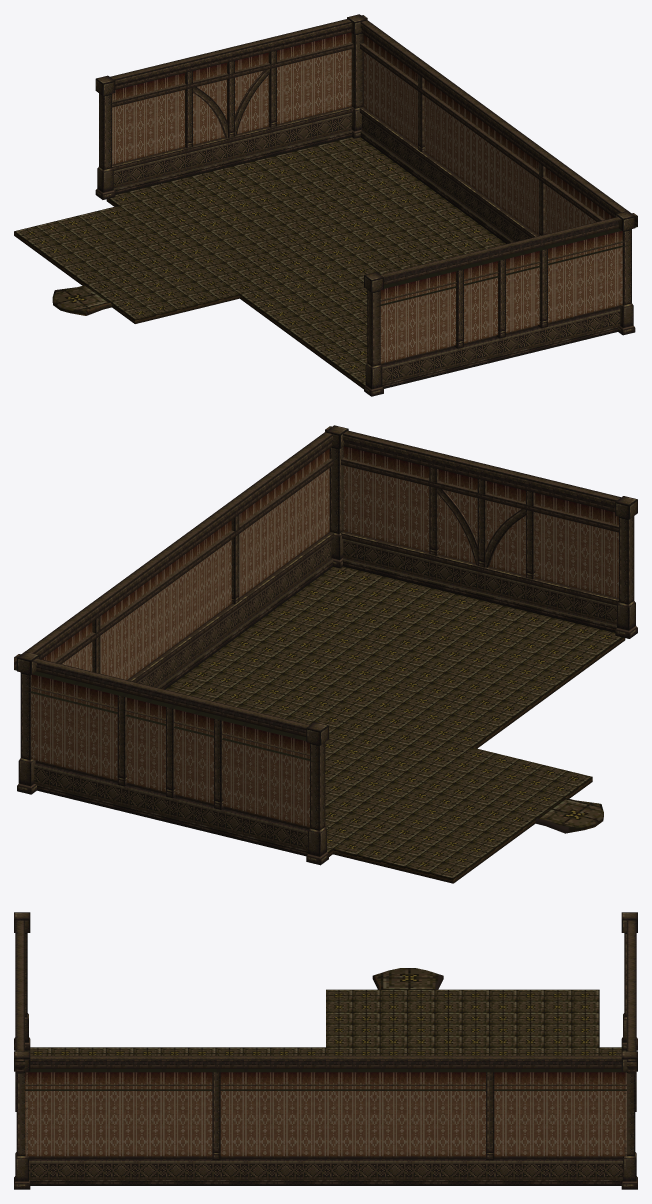
File: EnvBdgMD_Mount_A_Indoor_House_RichMan_A.FBX
3 views of the same model, one above another, from view 1: azimuth 30°, elevation 25°; view 2: azimuth 150°, elevation 25°; view 3: azimuth 270°, elevation 25° (orthographic). The views are drawn at different scales.
Visible parts, largest first — view 1: EnvBdgMD_Mount_A_Indoor_House_RichMan_A; view 2: EnvBdgMD_Mount_A_Indoor_House_RichMan_A; view 3: EnvBdgMD_Mount_A_Indoor_House_RichMan_A.
Part boxes in pixels (<box>): EnvBdgMD_Mount_A_Indoor_House_RichMan_A: <box>14,14,637,396</box>; EnvBdgMD_Mount_A_Indoor_House_RichMan_A: <box>14,425,637,883</box>; EnvBdgMD_Mount_A_Indoor_House_RichMan_A: <box>14,912,637,1189</box>.
Bounding box in the file's own units: 1945 × 550 × 2280.
Materials: 1 (1 with a texture image).
